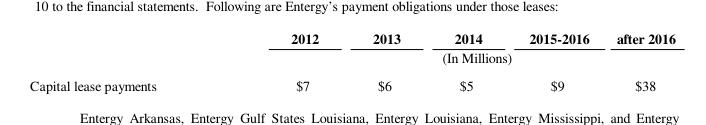table: (29, 28, 675, 93)
table column: (29, 28, 223, 93), (223, 28, 345, 93), (505, 28, 602, 93), (345, 28, 426, 93), (426, 28, 505, 93), (602, 28, 675, 93)
table column header: (29, 28, 675, 70)
table row: (29, 47, 675, 70), (29, 70, 675, 93), (29, 28, 675, 47)
table spanning cell: (223, 47, 675, 70)
